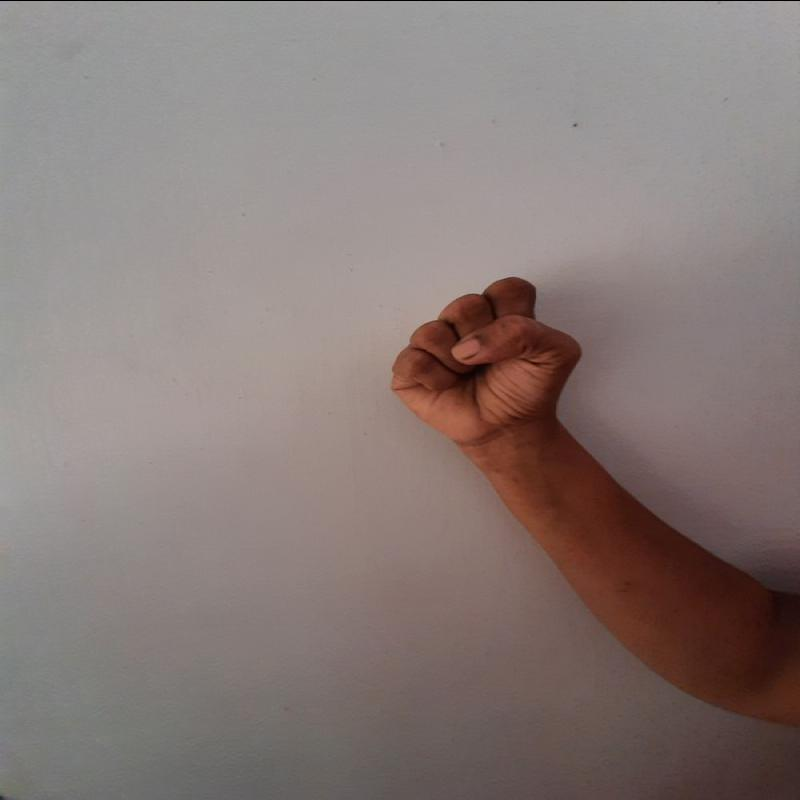Mushti: (373, 256, 596, 471)
